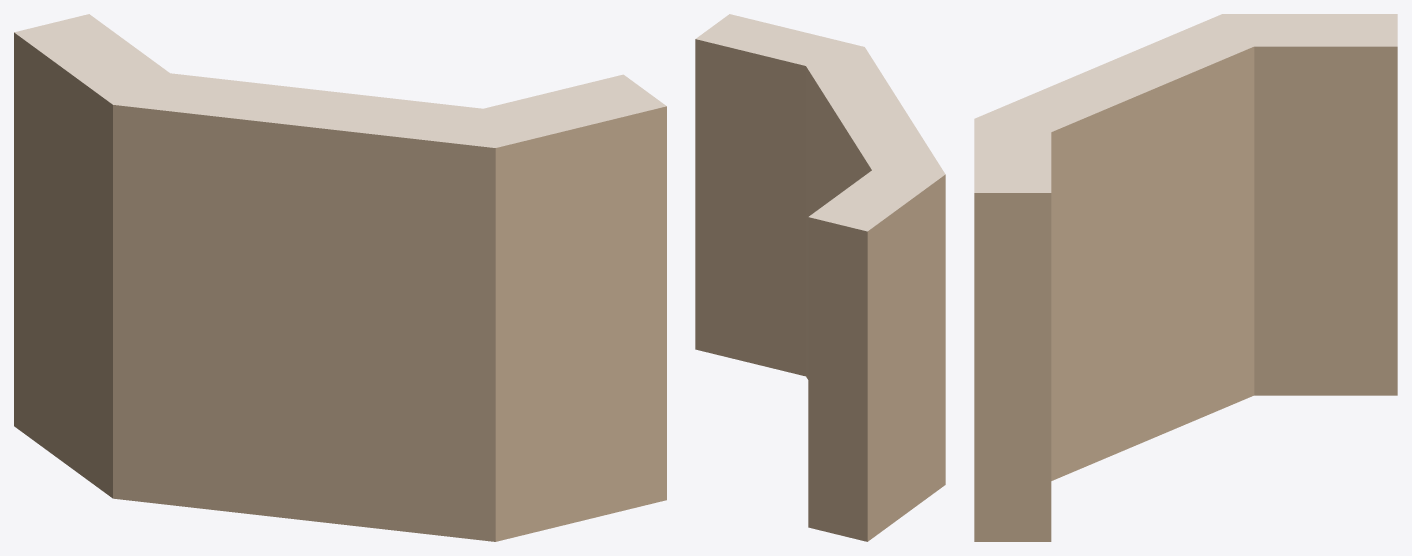
The model's file is Wall_Curved_Small_Middle.fbx.
The picture shows the model from 3 angles, left to right: view 1: azimuth 30°, elevation 25°; view 2: azimuth 150°, elevation 25°; view 3: azimuth 270°, elevation 25°; orthographic projection. The views are drawn at different scales.
Visible parts, largest first — view 1: Sandstone_Trim.object1, Sandstone_Floor; view 2: Sandstone_Trim.object1, Sandstone_Floor; view 3: Sandstone_Trim.object1, Sandstone_Floor.
Boxes of the visible parts, bbox=[...] form: Sandstone_Trim.object1: bbox=[14, 32, 666, 541]; Sandstone_Floor: bbox=[14, 14, 666, 147]; Sandstone_Trim.object1: bbox=[695, 39, 945, 541]; Sandstone_Floor: bbox=[696, 14, 945, 231]; Sandstone_Trim.object1: bbox=[974, 46, 1397, 541]; Sandstone_Floor: bbox=[974, 14, 1397, 192].
Bounding box in the file's own units: 1.1 × 1 × 1.1.
